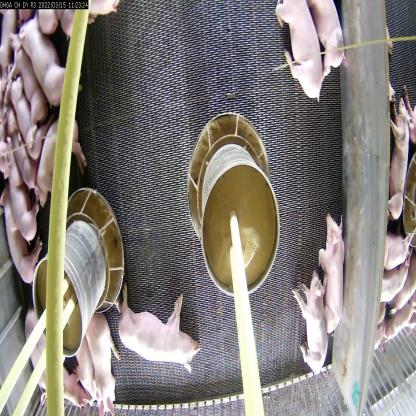Pig: (112, 279, 202, 373), (32, 108, 97, 203), (19, 13, 79, 109), (0, 168, 46, 288), (275, 0, 324, 100), (3, 134, 46, 247), (291, 264, 331, 379), (317, 204, 349, 336), (8, 25, 48, 126), (308, 0, 352, 87), (85, 312, 122, 414), (8, 72, 48, 160), (386, 88, 405, 222), (378, 239, 414, 306)
